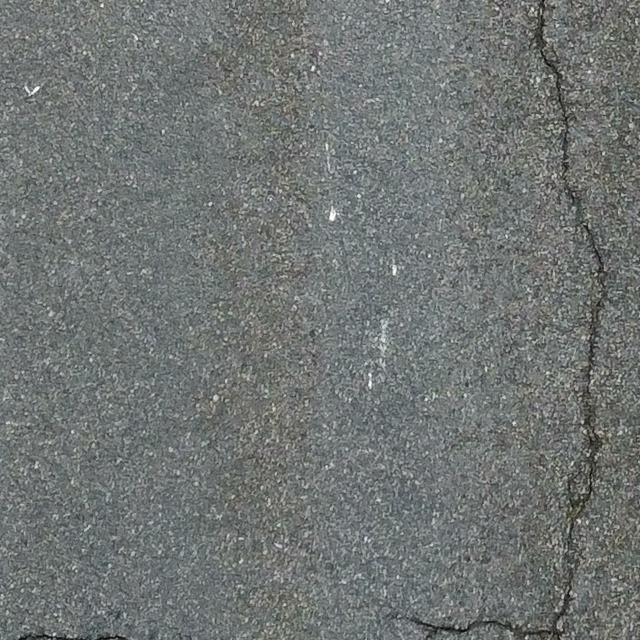LongitudinalCrack: (537, 1, 607, 627)
TransverseCrack: (412, 613, 560, 640)
